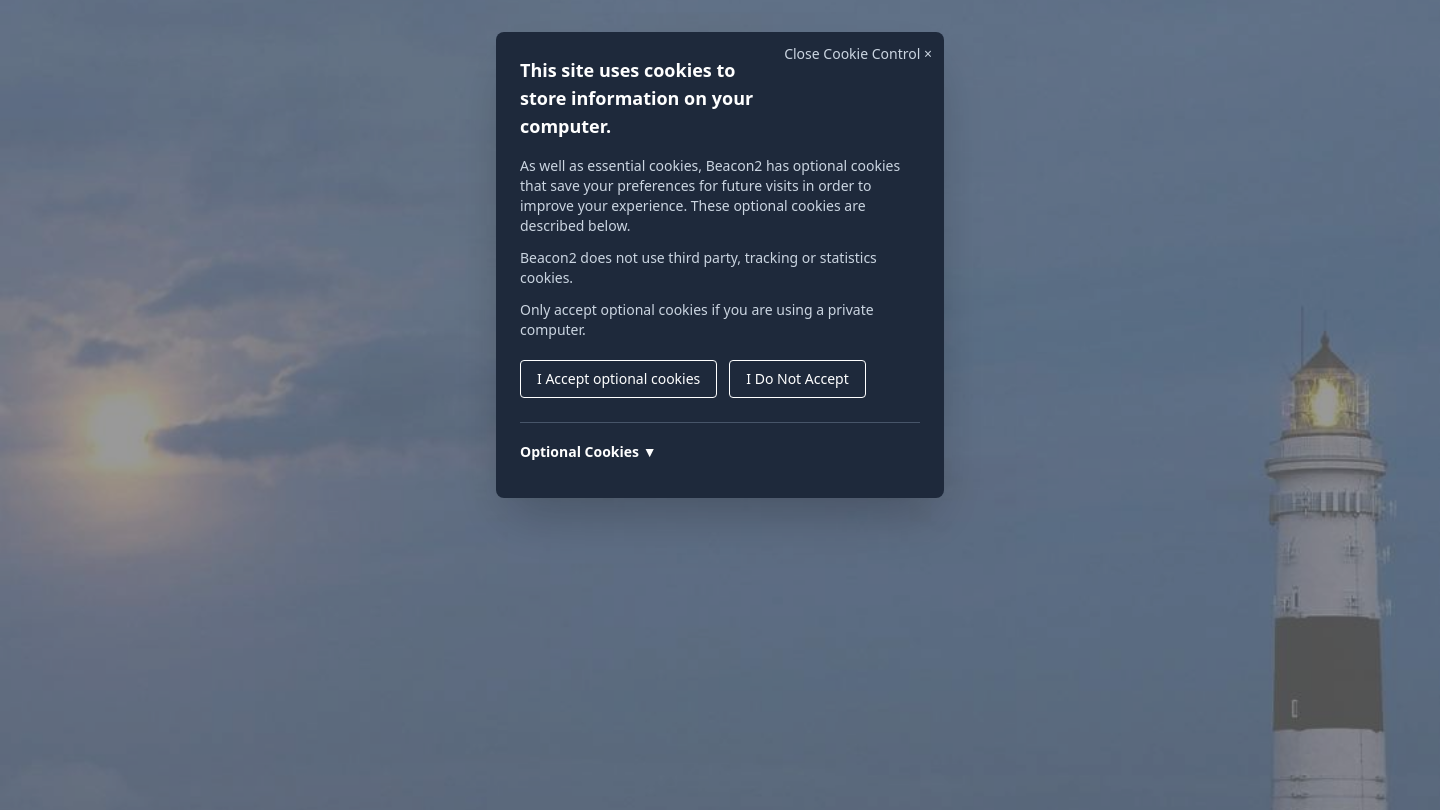
Test case: CookieConsent component › shows optional cookies details when expanded
Click the button "Optional Cookies ▼".
click(588, 452)  # box top-left (520, 442), bottom-right (656, 462)
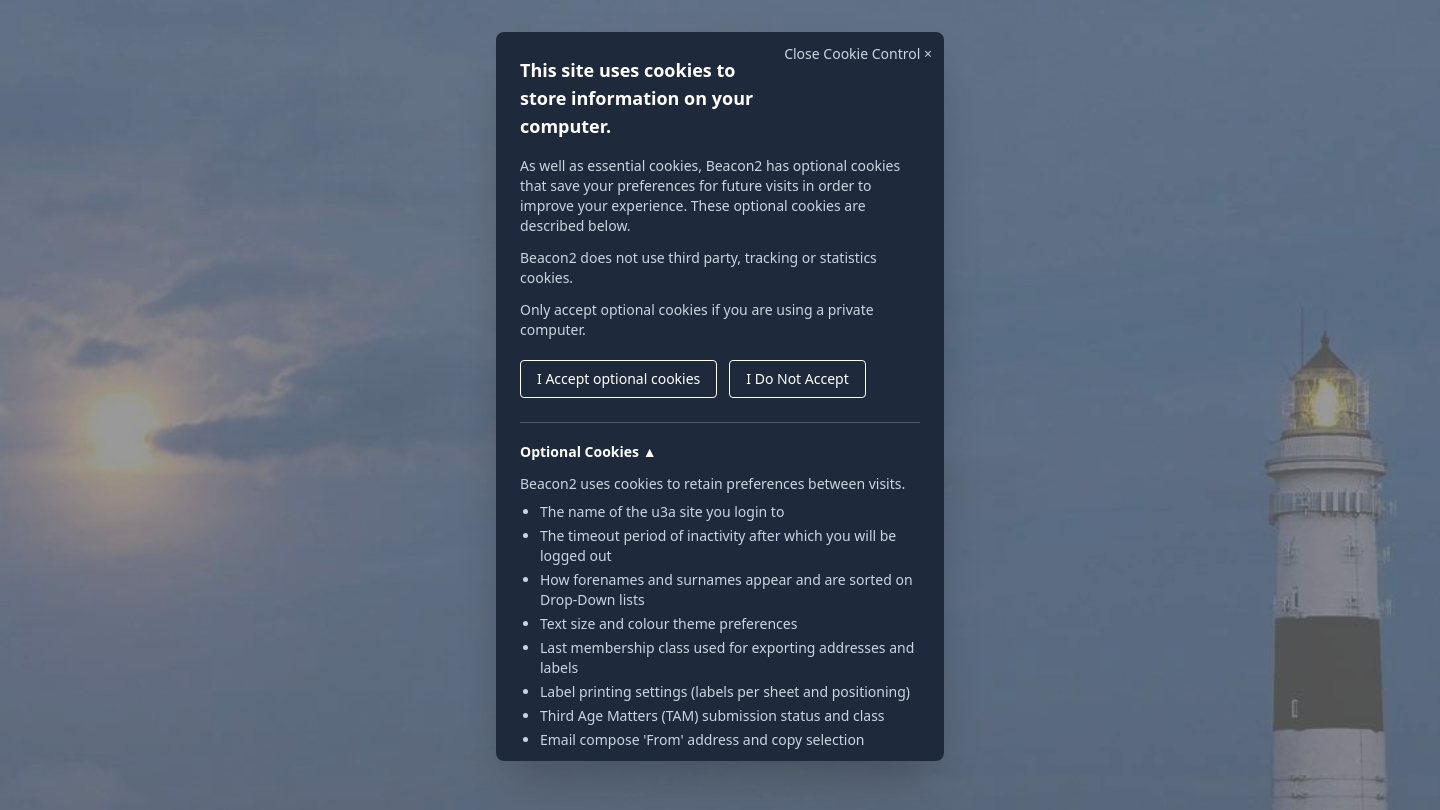
Expected: the list item "The name of the u3a site you login to" is shown, top-left (540, 502), bottom-right (784, 521)
Expected: the list item "timeout period" is shown, top-left (540, 526), bottom-right (896, 565)
Expected: the list item "Last membership class used for exporting" is shown, top-left (540, 638), bottom-right (914, 677)
